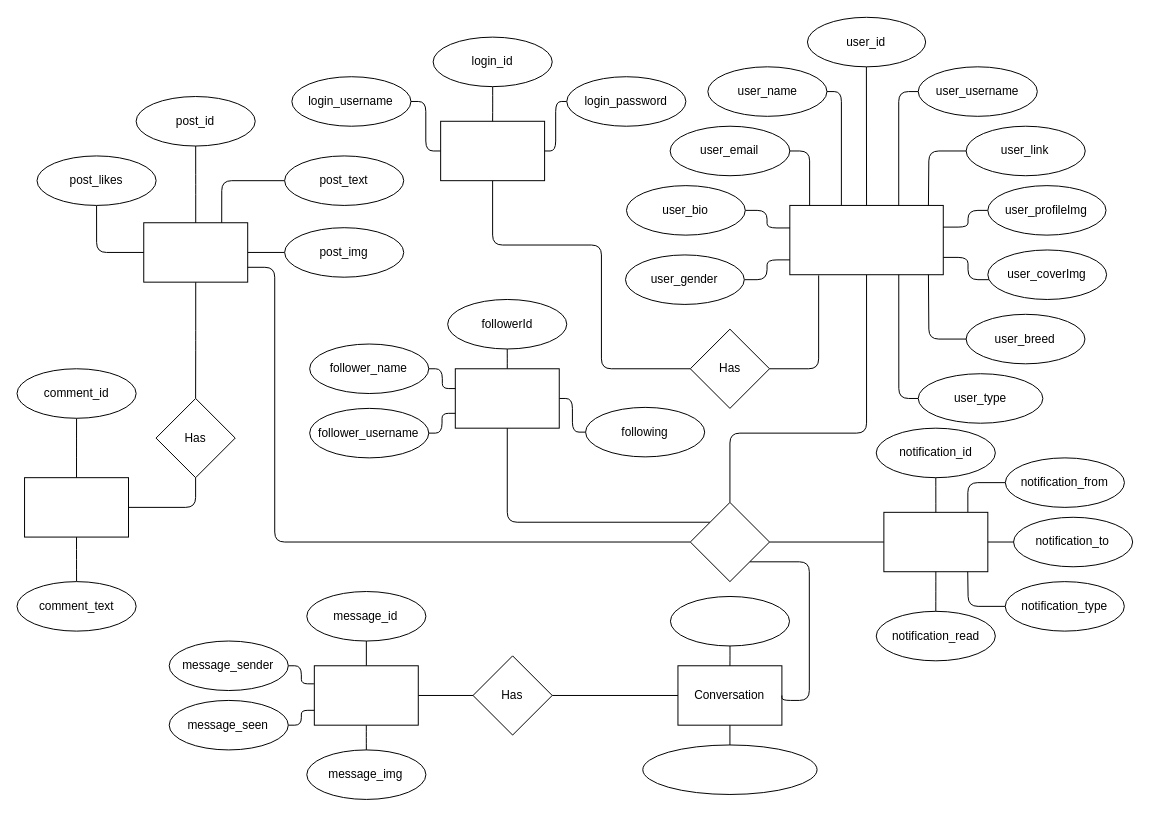
The diagram is 1150 pixels wide and 817 high, and some of its shapes have lost their labels. Here are the shapes that lost their labels. From the top down, the centre of each, then its label:
At (492,150): "Login".
At (195,252): "Post".
At (866,239): "User".
At (506,398): "Followers".
At (76,507): "Comment".
At (729,541): "Manage".
At (935,541): "Notification".
At (729,620): "conversation_id".
At (365,695): "Message".
At (729,769): "conversation_participant".
